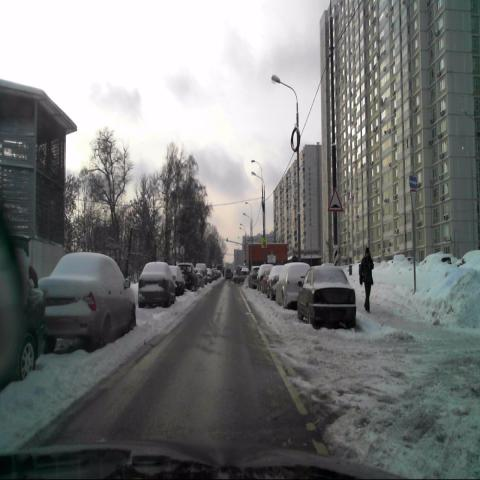1_17: (328, 189, 342, 210)
2_4: (410, 190, 417, 217)
5_7_1: (408, 174, 418, 188)
